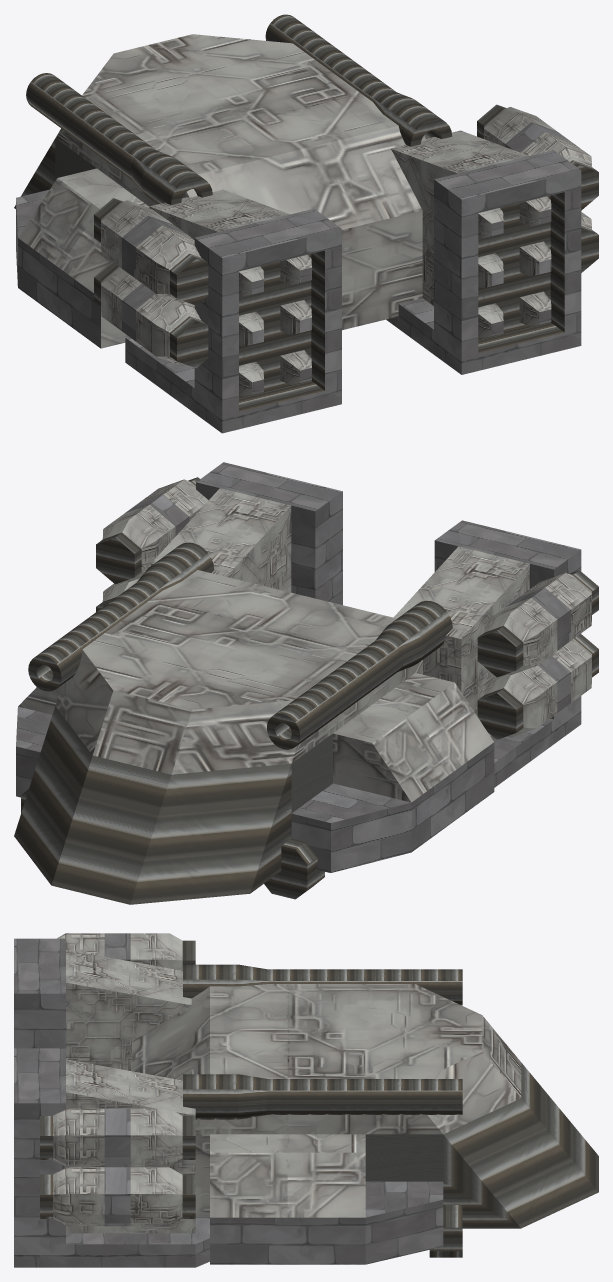
File: spaceship.obj
The picture shows the model from 3 angles, top to bottom: view 1: azimuth 30°, elevation 25°; view 2: azimuth 150°, elevation 25°; view 3: azimuth 270°, elevation 25°; orthographic projection. The views are drawn at different scales.
Parts seen in each view (by area): view 1: mergedBlocks; view 2: mergedBlocks; view 3: mergedBlocks.
Part boxes in pixels (x1,y1,x2,y2): mergedBlocks: (14, 14, 598, 433); mergedBlocks: (14, 462, 598, 904); mergedBlocks: (14, 933, 598, 1267).
Size of the model in its own units: 1.82 by 0.75 by 2.26.
3 materials, 3 textured.
